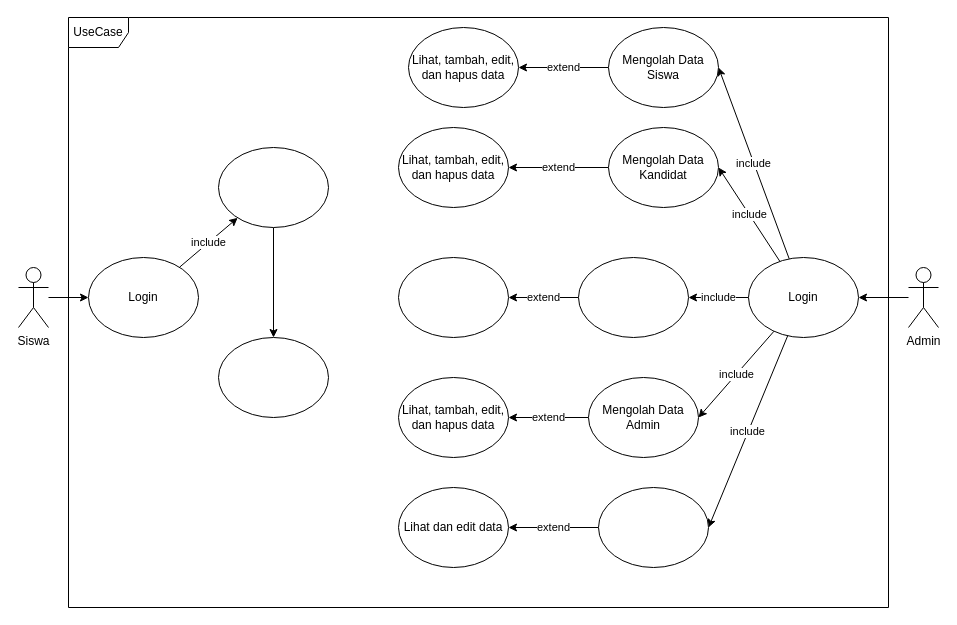
This 957x625 diagram has some shape labels left out. Each missing label, with the centre of its shape:
Lihat data: pixel 453 297
Melakukan Voting: pixel 273 187
Melihat Pengumuman: pixel 273 377
Mengolah Data Voting: pixel 633 297
Mengolah Setingan Voting: pixel 653 527
